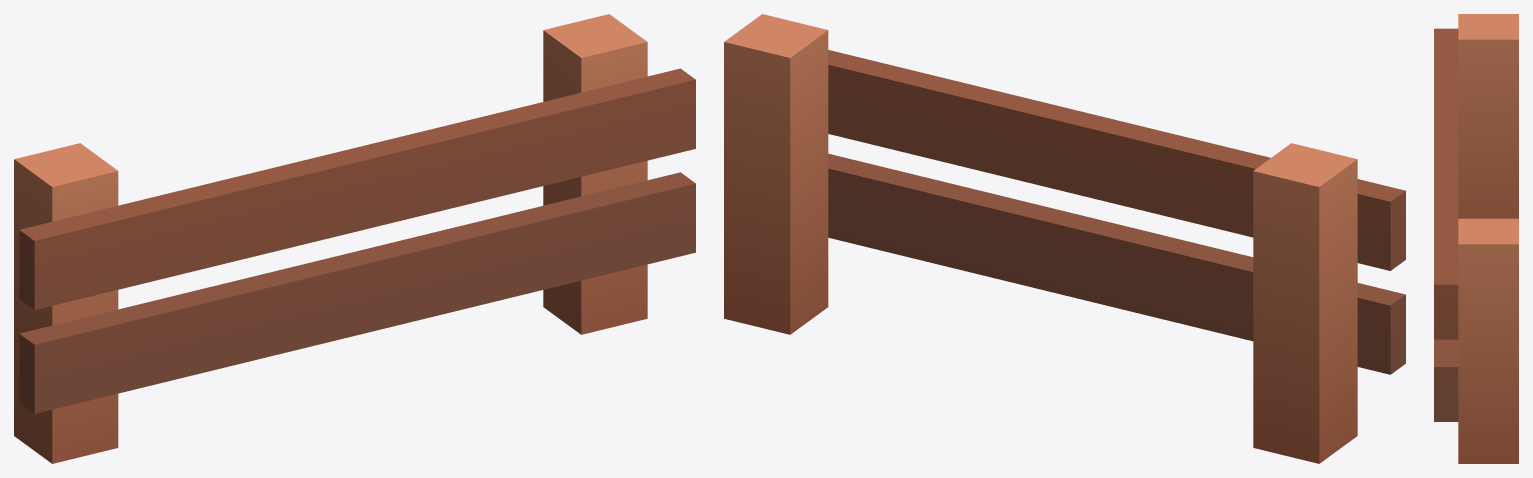
The model's file is fence-straight.glb.
The picture shows the model from 3 angles, left to right: view 1: azimuth 30°, elevation 25°; view 2: azimuth 150°, elevation 25°; view 3: azimuth 270°, elevation 25°; orthographic projection. The views are drawn at different scales.
Visible parts, largest first — view 1: fence-straight; view 2: fence-straight; view 3: fence-straight.
Part boxes in pixels (box(x1,y1,x2,y2)): fence-straight: box(14, 14, 695, 463); fence-straight: box(724, 14, 1405, 463); fence-straight: box(1434, 14, 1518, 463).
Bounding box in the file's own units: 1 × 0.4 × 0.14.
1 material, 1 textured.
